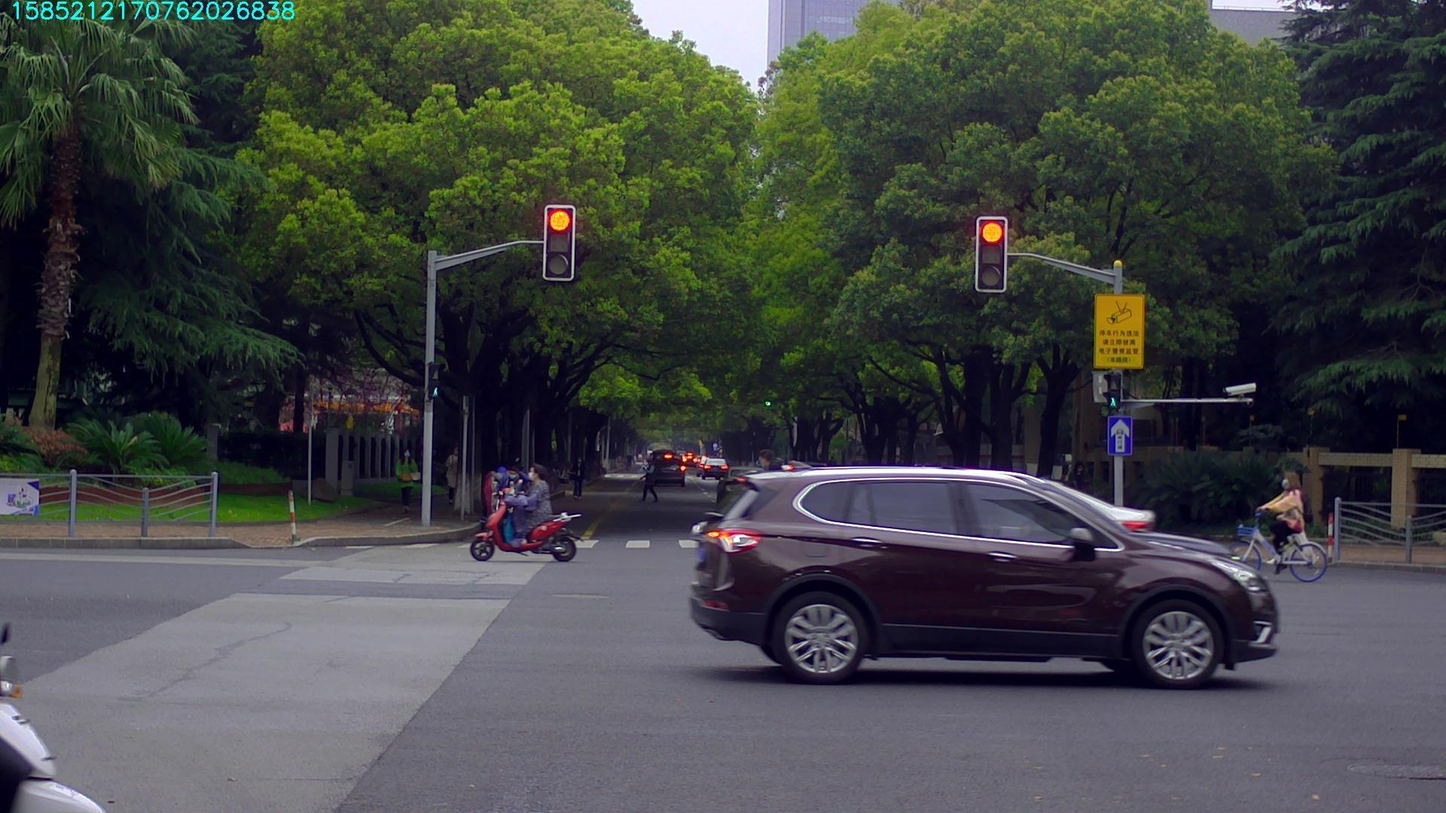red: (544, 206, 572, 279), (978, 216, 1005, 291)
